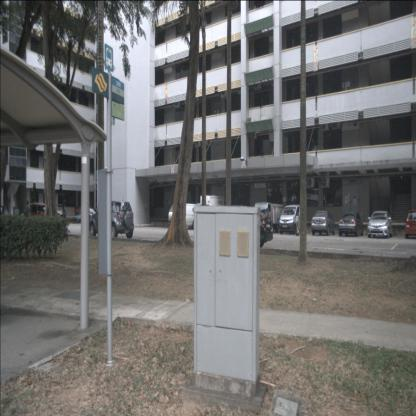human-pedestrian-adult: (23, 200, 32, 234)
vehicle-car: (211, 206, 273, 249), (89, 200, 134, 240), (24, 203, 62, 237), (168, 203, 204, 230), (254, 202, 284, 233), (279, 205, 305, 235), (367, 211, 393, 238), (311, 211, 336, 236), (339, 212, 364, 236), (405, 210, 416, 239)
vehicle-truck: (194, 195, 224, 231)
